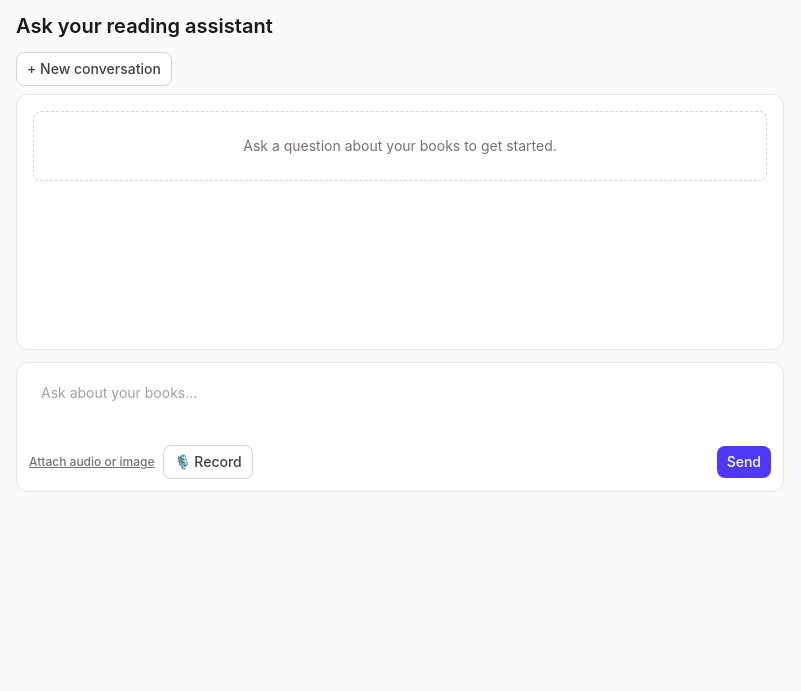
Test case: Chat › keeps a streamed recap when asking to save a summary
Type "catch me up" into the text box named "message" at (400,403), box [29,375,771,431]
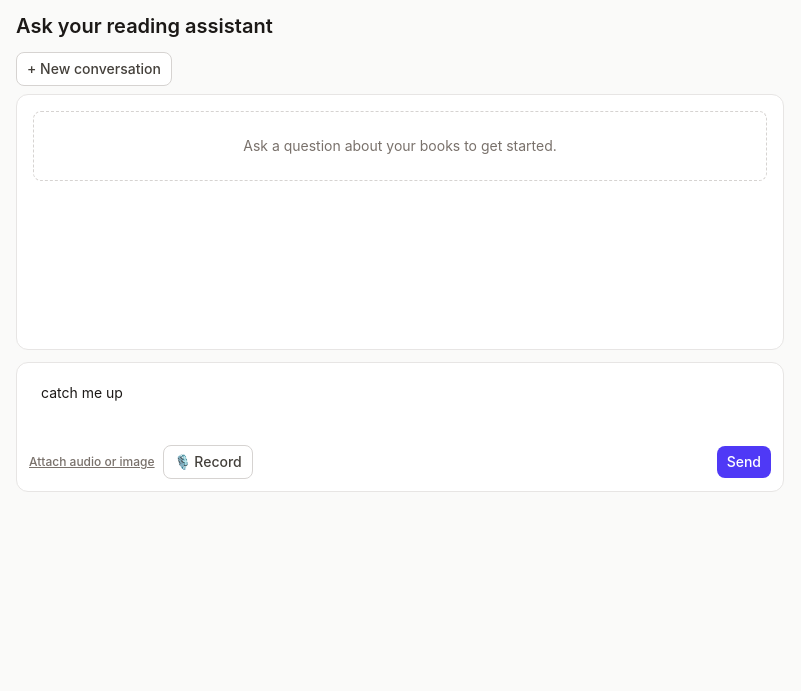
Click the button "Send" at (744,462), box [717,446,771,478]
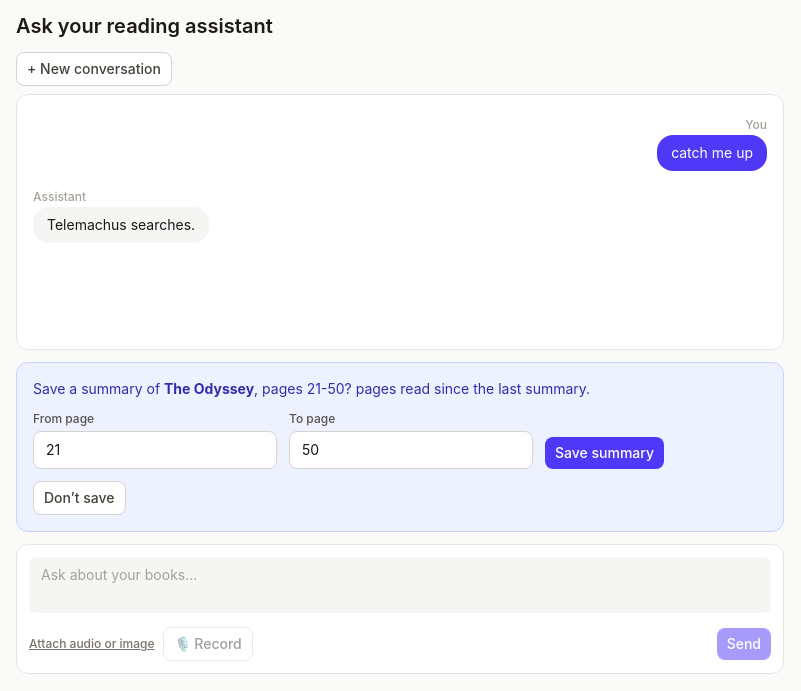
Check: the element named "confirm summary range" is shown, box [16,362,784,532]
Check: the text "Telemachus searches." is shown, box [47,216,195,233]
Click the button "Save summary" at (604,453), box [545,437,664,469]
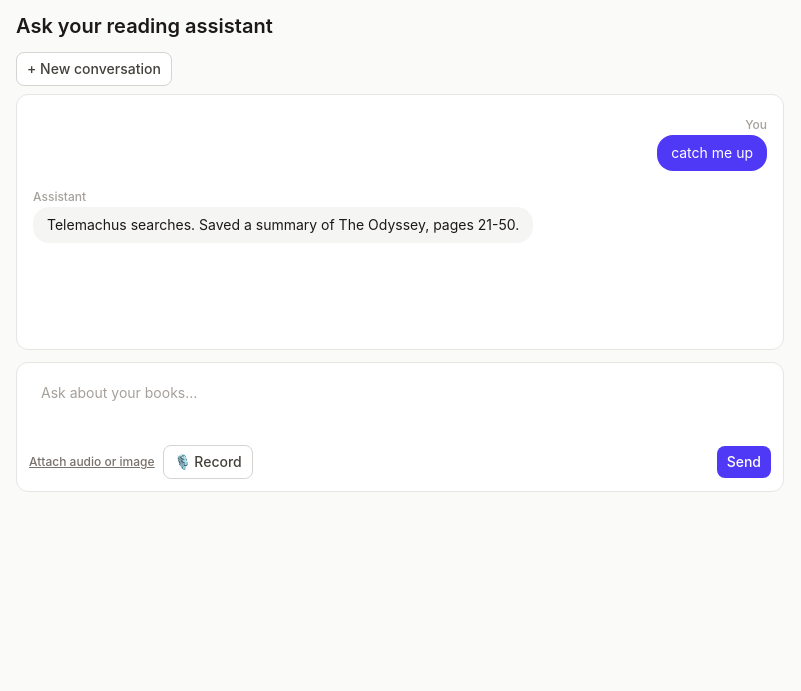
Check: the text "Saved a summary of The Odyssey, pages 21-50" is shown, box [47,216,519,233]
